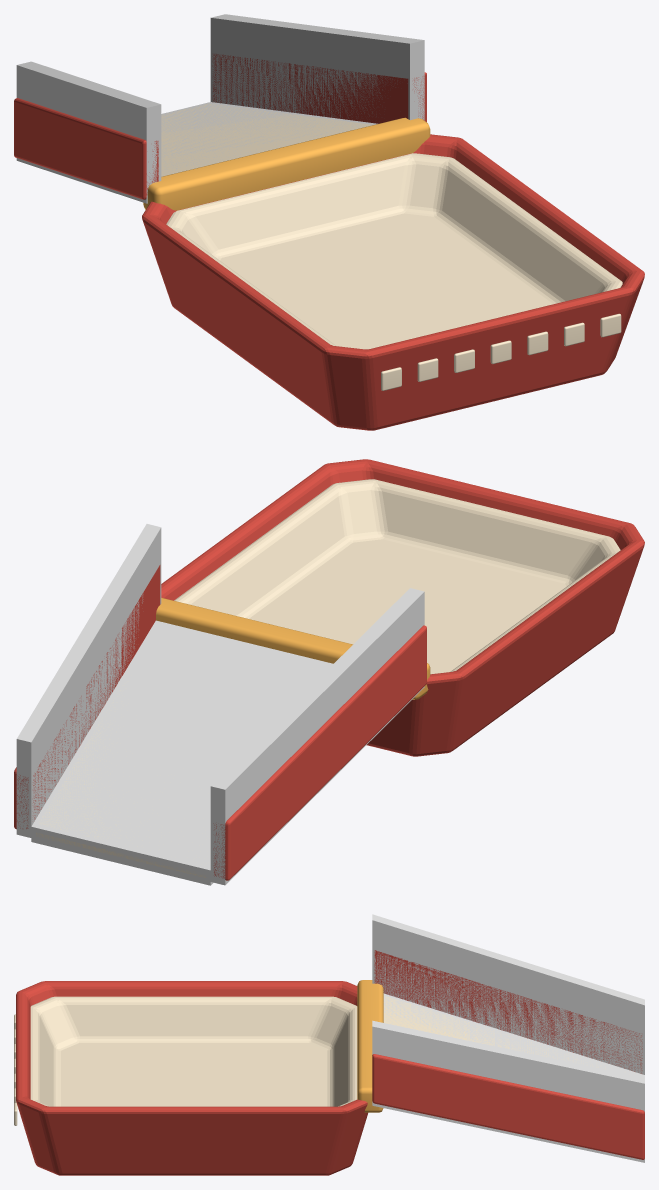
The model's file is A08_TakeoutBoxRamp.fbx.
The picture shows the model from 3 angles, top to bottom: view 1: azimuth 30°, elevation 25°; view 2: azimuth 150°, elevation 25°; view 3: azimuth 270°, elevation 25°; orthographic projection. The views are drawn at different scales.
Visible parts, largest first — view 1: Takeout • paper lining, Takeout • scarlet base, COL_Takeout_Lid_WallR, Takeout • pivot barrel, Takeout • red lid rail, Takeout • red lid rail.001, Takeout • cream rolling lid, COL_Takeout_Lid_WallL, COL_Takeout_Lid_Floor; view 2: Takeout • paper lining, COL_Takeout_Lid_Floor, Takeout • scarlet base, COL_Takeout_Lid_WallR, Takeout • red lid rail, COL_Takeout_Lid_WallL, Takeout • pivot barrel, Takeout • red lid rail.001, Takeout • cream rolling lid; view 3: Takeout • paper lining, Takeout • scarlet base, COL_Takeout_Lid_WallL, Takeout • red lid rail.001, COL_Takeout_Lid_WallR, Takeout • red lid rail, COL_Takeout_Lid_Floor, Takeout • cream rolling lid, Takeout • pivot barrel.
Boxes of the visible parts, x1=… form: Takeout • paper lining: x1=166, y1=153, x2=622, y2=349; Takeout • scarlet base: x1=142, y1=134, x2=644, y2=430; COL_Takeout_Lid_WallR: x1=210, y1=14, x2=424, y2=120; Takeout • pivot barrel: x1=143, y1=117, x2=430, y2=210; Takeout • red lid rail: x1=14, y1=98, x2=158, y2=199; Takeout • red lid rail.001: x1=212, y1=54, x2=426, y2=123; Takeout • cream rolling lid: x1=161, y1=103, x2=372, y2=176; COL_Takeout_Lid_WallL: x1=16, y1=61, x2=161, y2=203; COL_Takeout_Lid_Floor: x1=161, y1=102, x2=377, y2=173; Takeout • paper lining: x1=174, y1=479, x2=620, y2=674; COL_Takeout_Lid_Floor: x1=31, y1=620, x2=333, y2=885; Takeout • scarlet base: x1=161, y1=459, x2=644, y2=756; COL_Takeout_Lid_WallR: x1=16, y1=524, x2=161, y2=837; Takeout • red lid rail: x1=213, y1=625, x2=426, y2=880; COL_Takeout_Lid_WallL: x1=210, y1=588, x2=424, y2=885; Takeout • pivot barrel: x1=156, y1=597, x2=430, y2=699; Takeout • red lid rail.001: x1=14, y1=565, x2=160, y2=829; Takeout • cream rolling lid: x1=36, y1=690, x2=206, y2=877; Takeout • paper lining: x1=30, y1=996, x2=357, y2=1106; Takeout • scarlet base: x1=16, y1=981, x2=367, y2=1175; COL_Takeout_Lid_WallL: x1=372, y1=914, x2=644, y2=1074; Takeout • red lid rail.001: x1=372, y1=1054, x2=644, y2=1159; COL_Takeout_Lid_WallR: x1=372, y1=1020, x2=644, y2=1162; Takeout • red lid rail: x1=374, y1=950, x2=642, y2=1073; COL_Takeout_Lid_Floor: x1=383, y1=993, x2=644, y2=1077; Takeout • cream rolling lid: x1=383, y1=996, x2=605, y2=1068; Takeout • pivot barrel: x1=357, y1=980, x2=383, y2=1112.
Size of the model in its own units: 0.1756 by 0.097 by 0.361.
